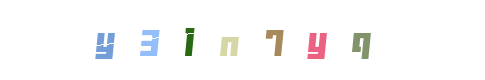3: (106, 0, 186, 80)
7: (211, 0, 291, 80)
L: (149, 0, 229, 80)
N: (202, 0, 282, 80)
Q: (281, 0, 361, 80)
Y: (65, 0, 145, 80), (277, 0, 357, 80)
